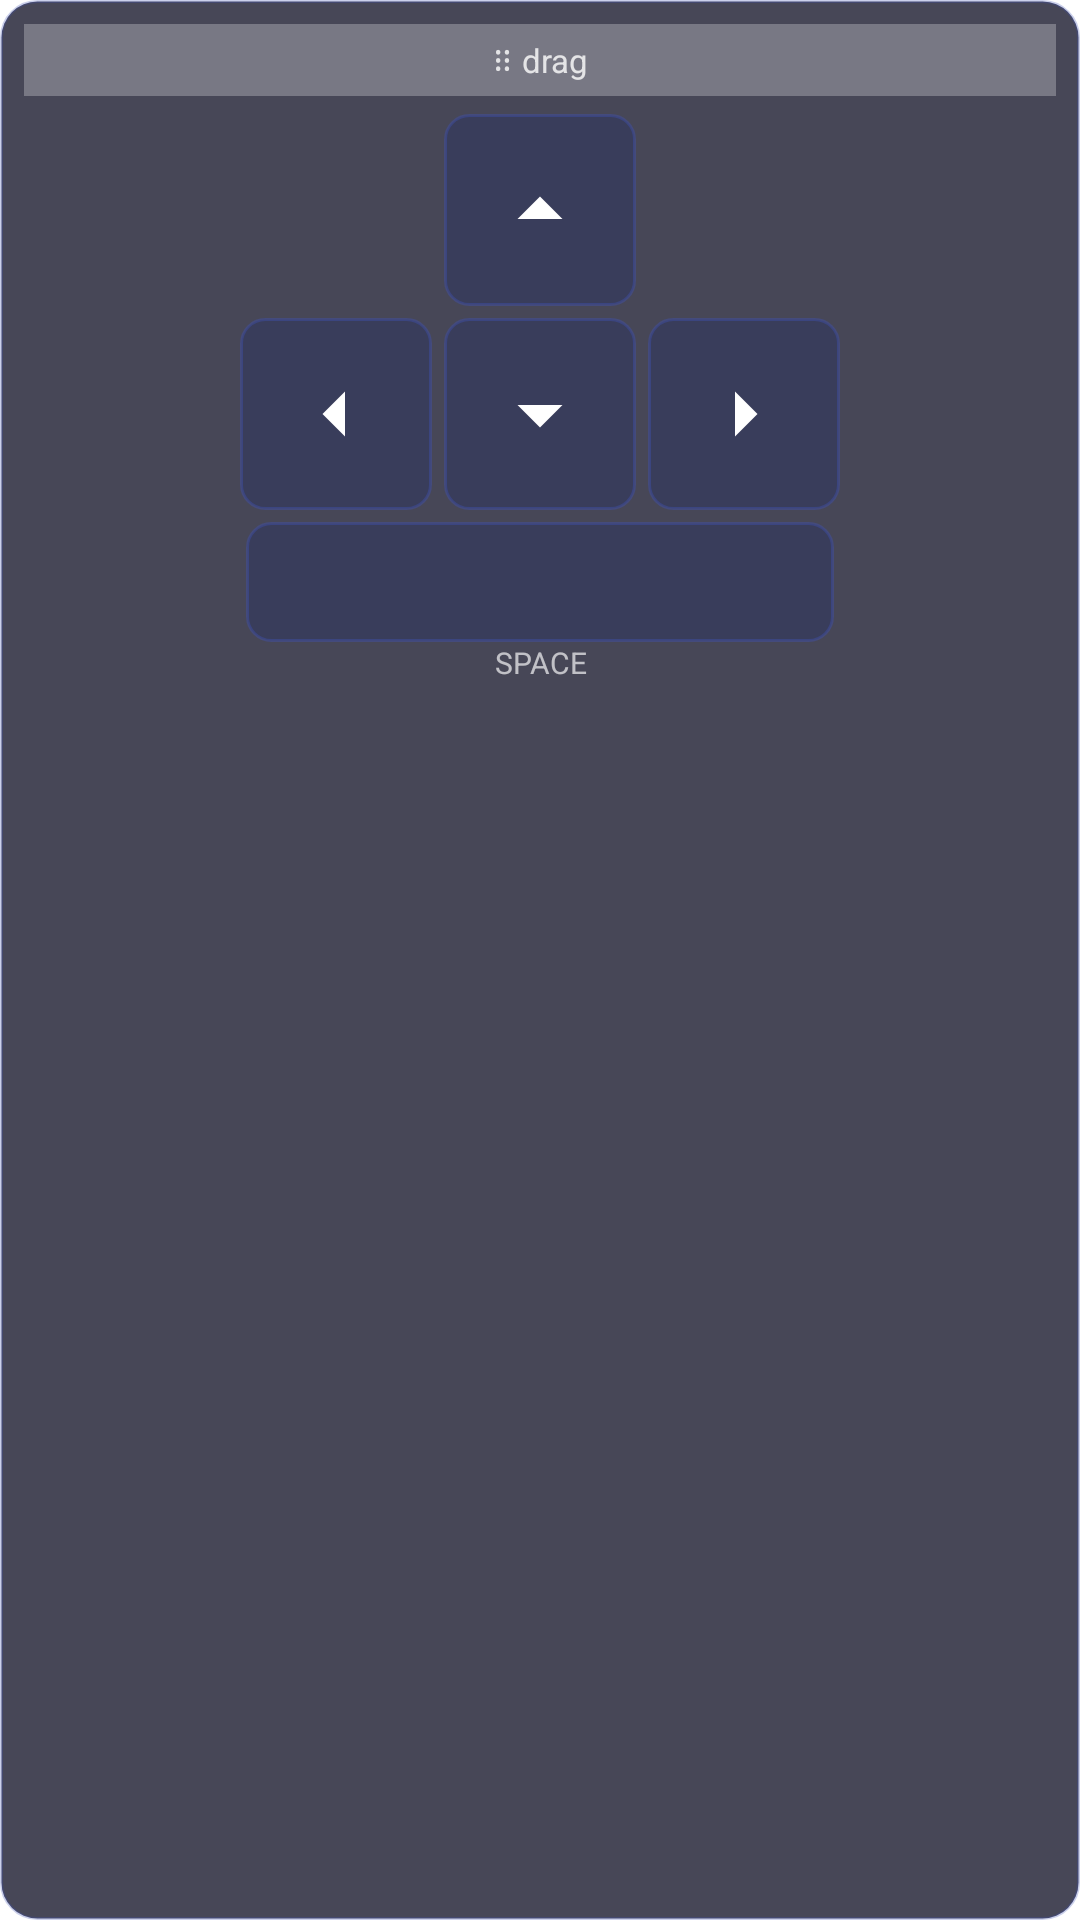

Named icons in this screenshot (1080px×1920px) and their centers, point (x, y):
Down: point (540, 414)
Left: point (336, 414)
Right: point (744, 414)
Up: point (540, 210)
